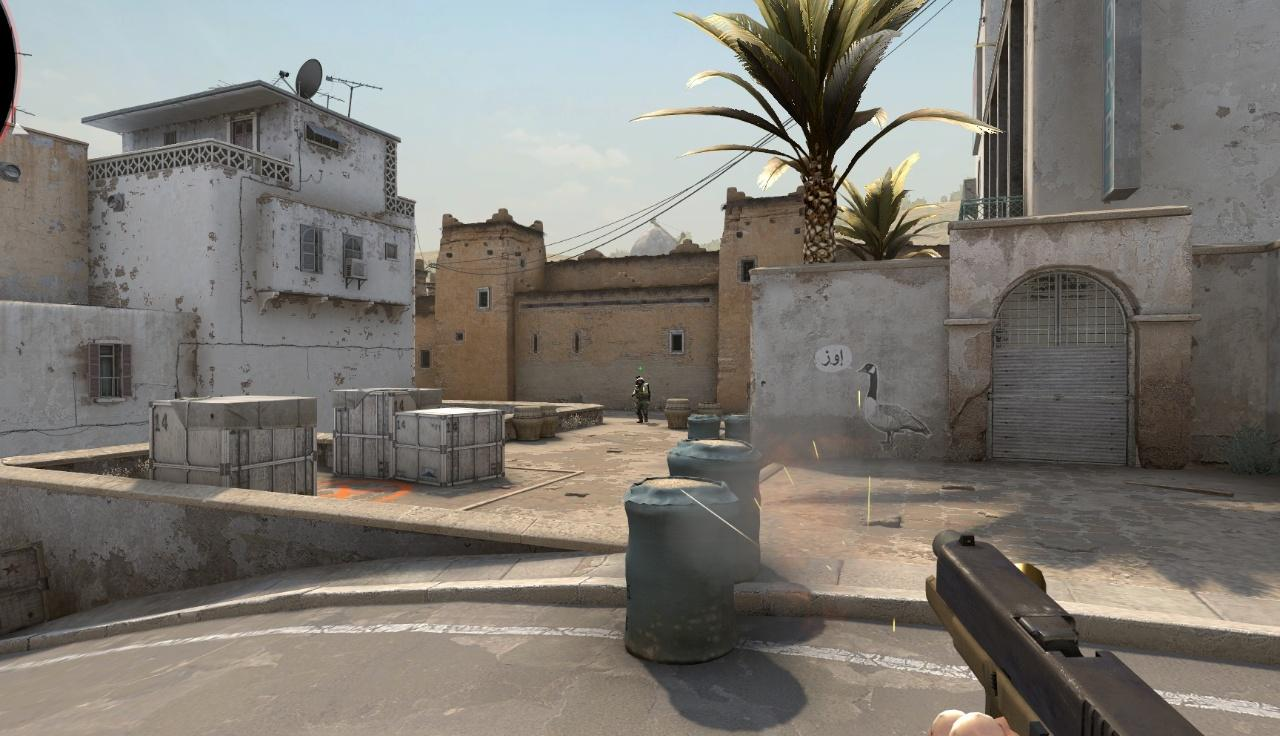ct: (632, 376, 651, 423)
cthead: (636, 377, 643, 385)
pistol: (923, 525, 1242, 736)
